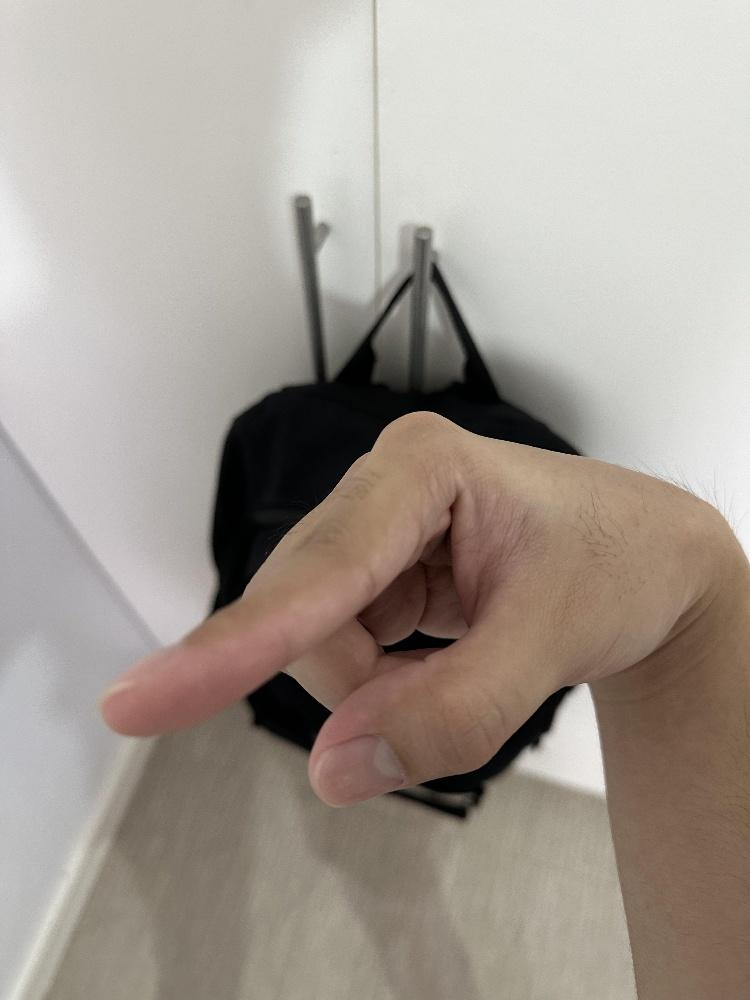z: (93, 403, 706, 813)
